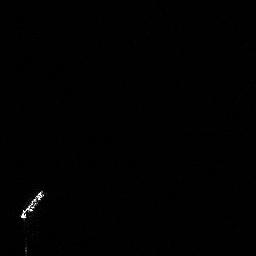ship: (16, 186, 48, 221)
